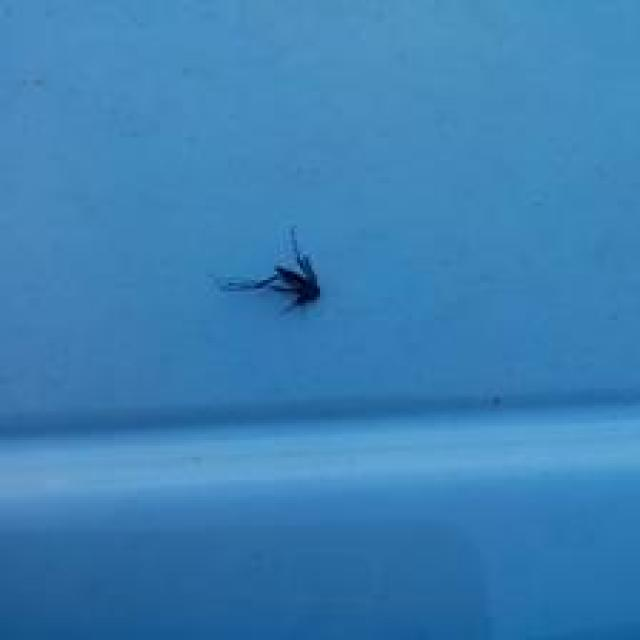Aedes albopictus: (214, 224, 323, 316)
